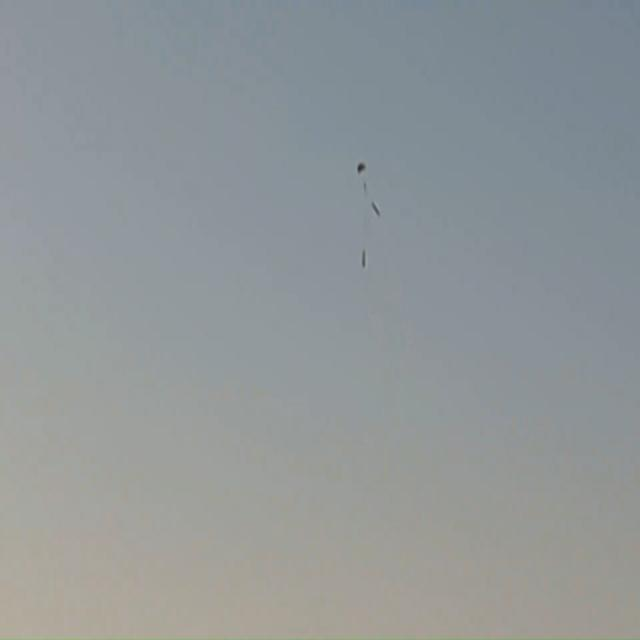Rocket: (362, 248, 366, 270)
